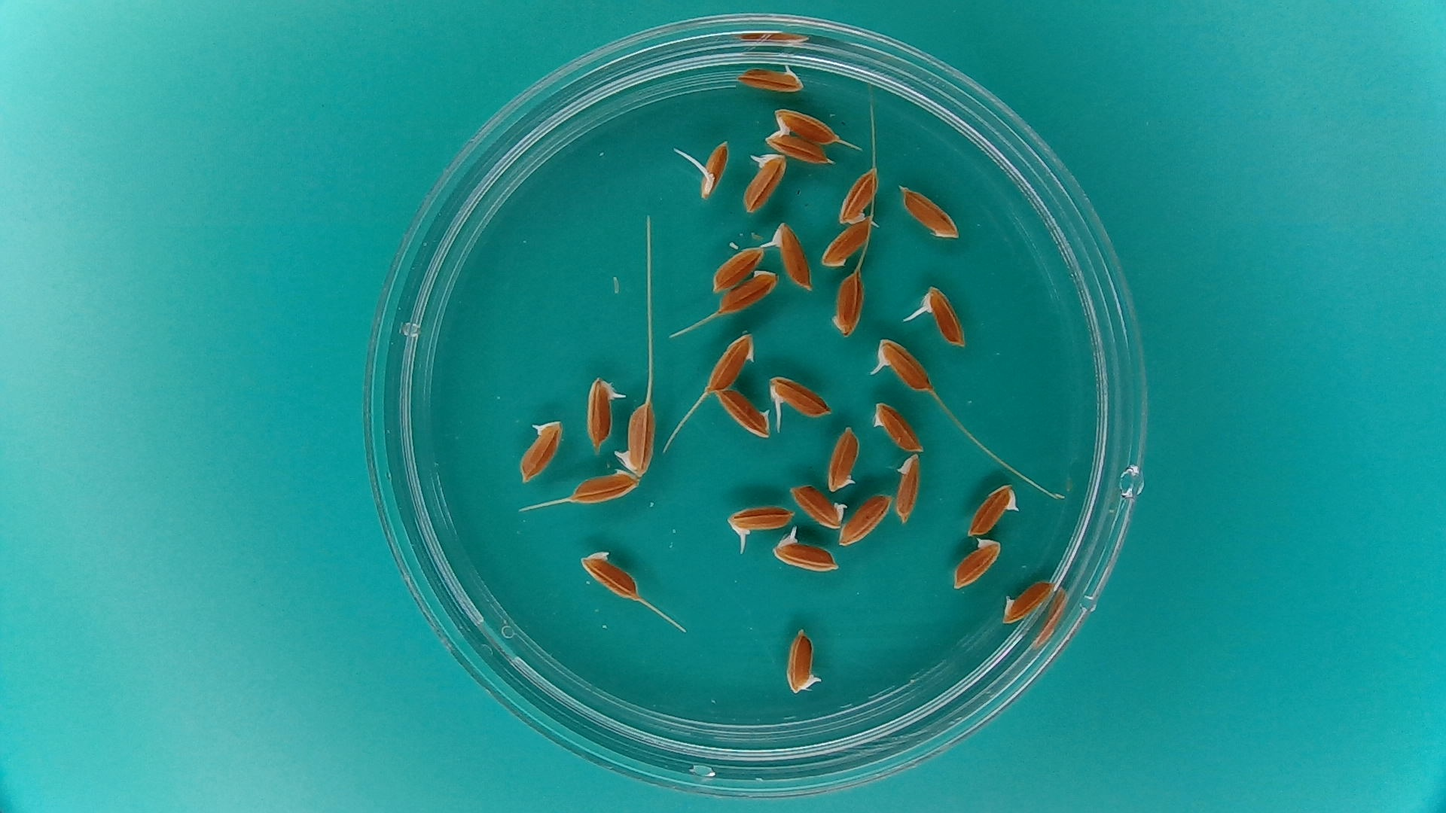no: (897, 181, 962, 242), (700, 330, 759, 393), (948, 534, 1005, 592), (768, 104, 843, 146), (869, 400, 926, 455), (712, 386, 770, 440), (566, 469, 642, 510), (839, 492, 894, 548), (999, 577, 1059, 628), (711, 240, 765, 294), (581, 553, 640, 602), (716, 269, 778, 315), (836, 163, 881, 225), (823, 422, 863, 490), (764, 129, 834, 164), (822, 219, 872, 267), (831, 267, 863, 340)
yes: (868, 334, 935, 393), (514, 416, 566, 486), (765, 219, 813, 293), (740, 147, 789, 215), (582, 373, 625, 449), (771, 527, 840, 574), (613, 399, 654, 478), (764, 373, 834, 419), (782, 623, 826, 696), (966, 481, 1022, 538), (723, 504, 795, 542), (734, 60, 807, 96), (920, 287, 961, 350), (792, 485, 848, 529), (892, 452, 923, 526), (697, 136, 731, 199)
